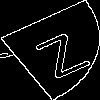Z: (24, 25, 93, 79)
